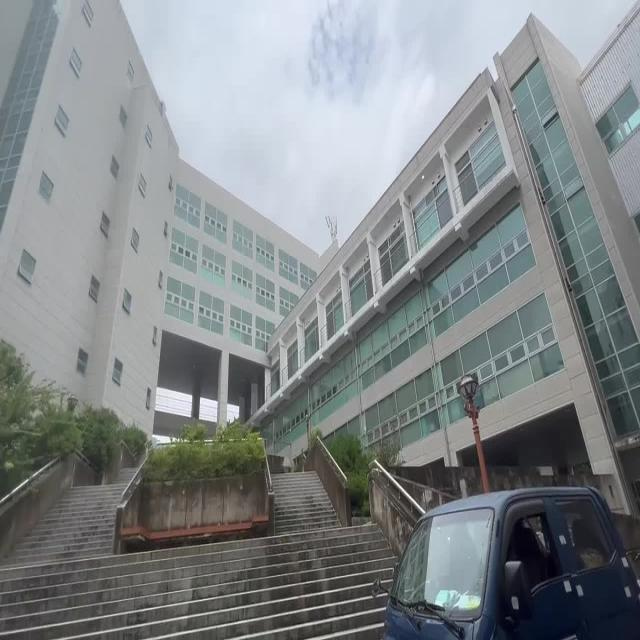building: (14, 54, 622, 396)
